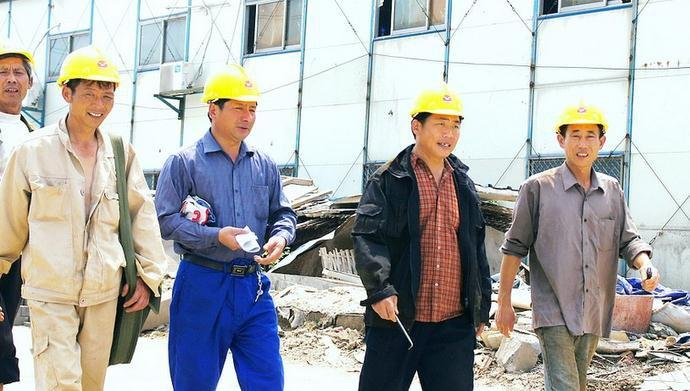helmet: (55, 46, 131, 89), (199, 68, 267, 109), (552, 102, 617, 136), (409, 86, 469, 121), (1, 38, 42, 63)
